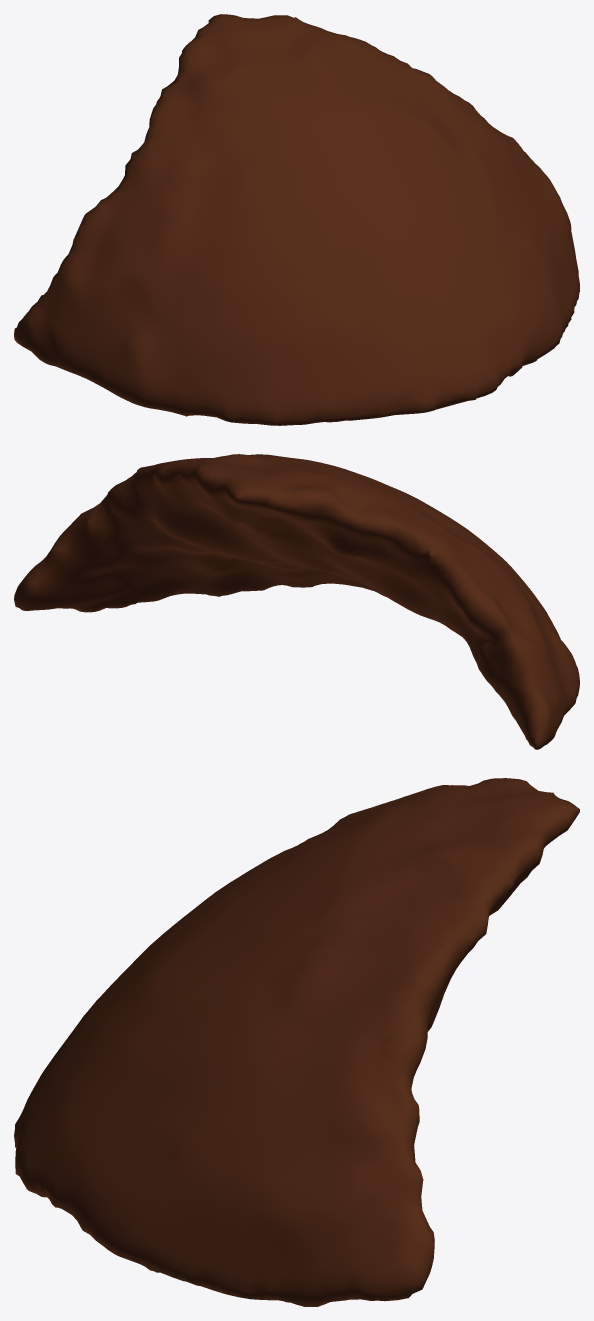
Rendered from vox_excavation_mountain01.fbx.
3 views of the same model, one above another, from view 1: azimuth 30°, elevation 25°; view 2: azimuth 150°, elevation 25°; view 3: azimuth 270°, elevation 25° (orthographic). The views are drawn at different scales.
Parts seen in each view (by area): view 1: vox_excavation_mountain01; view 2: vox_excavation_mountain01; view 3: vox_excavation_mountain01.
Part boxes in pixels (x1,y1,x2,y2): vox_excavation_mountain01: [14, 14, 579, 425]; vox_excavation_mountain01: [14, 454, 579, 749]; vox_excavation_mountain01: [14, 778, 579, 1306].
Bounding box in the file's own units: 24.86 × 11.52 × 16.87.
